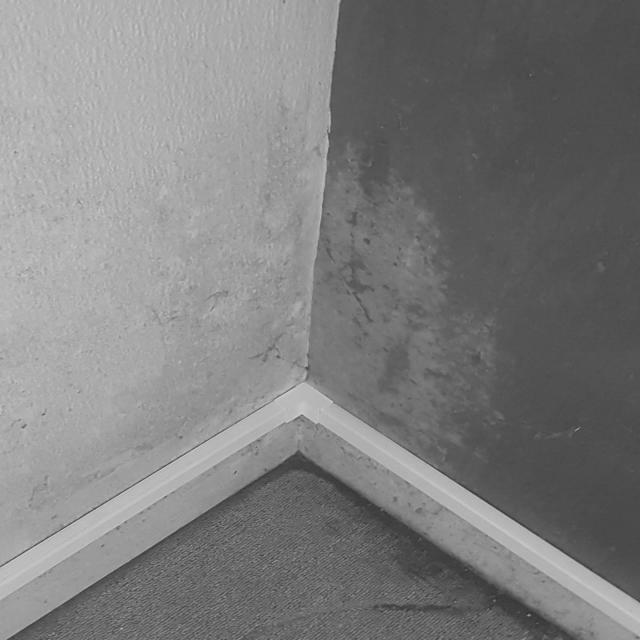stain marks: (0, 92, 321, 574), (328, 134, 440, 454), (447, 289, 528, 476), (531, 400, 594, 468)
